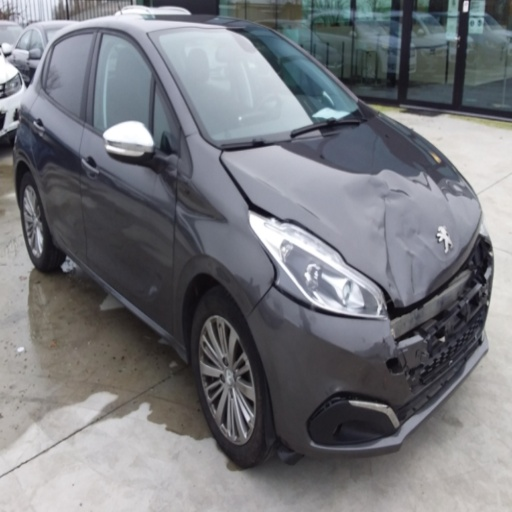dent: (344, 156, 481, 305)
